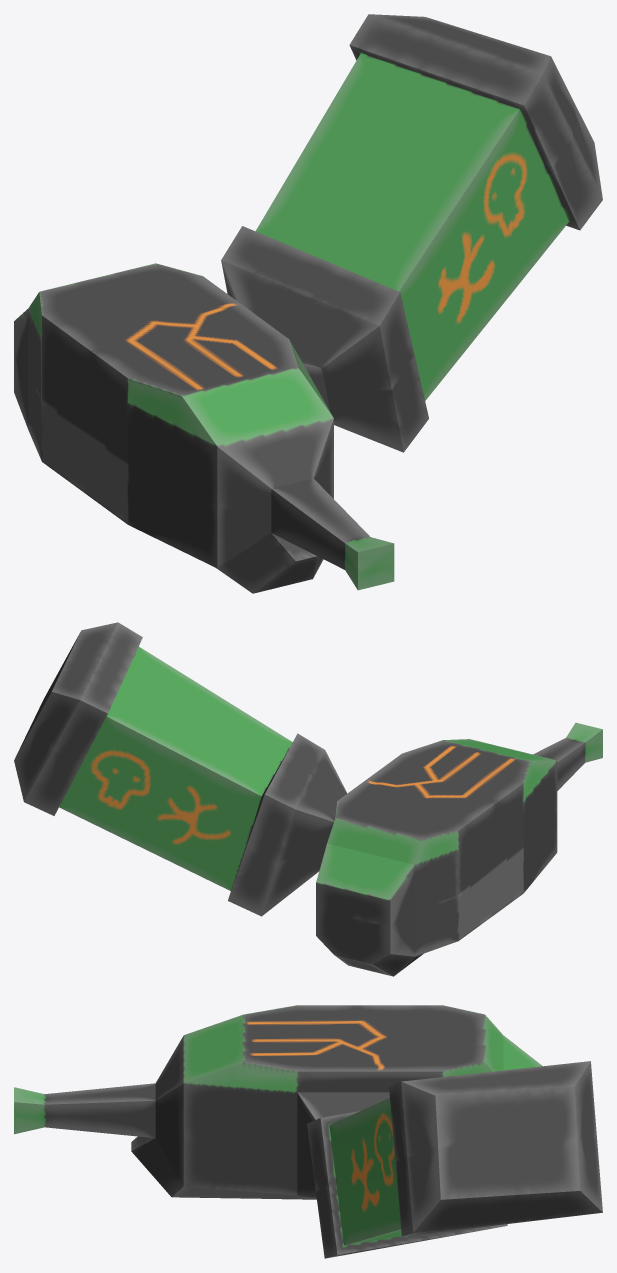
The model's file is gun_module_poison.fbx.
3 renders of one model, top to bottom at view 1: azimuth 30°, elevation 25°; view 2: azimuth 150°, elevation 25°; view 3: azimuth 270°, elevation 25°, orthographic. The views are drawn at different scales.
Visible parts, largest first — view 1: poison_module; view 2: poison_module; view 3: poison_module.
Boxes of the visible parts, left/top/right/bottom form: poison_module: left=14, top=14, right=602, bottom=593; poison_module: left=14, top=622, right=602, bottom=976; poison_module: left=14, top=1005, right=602, bottom=1258.
Size of the model in its own units: 23.73 by 13.23 by 25.96.
